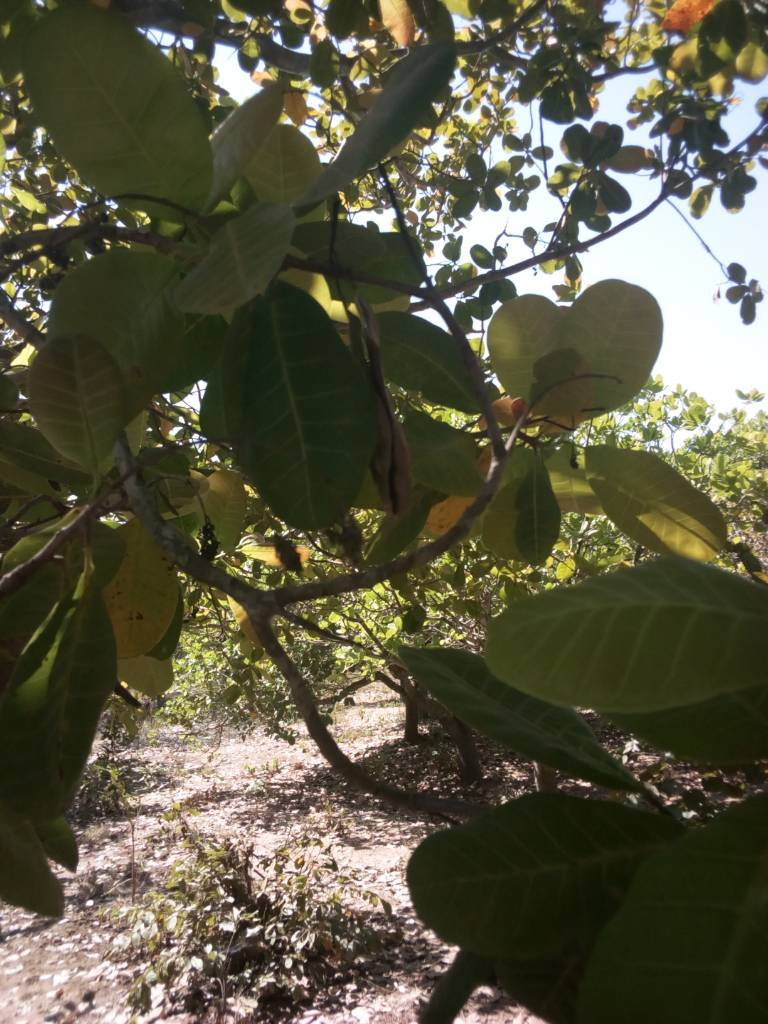Anthracnose: (102, 519, 174, 663)
